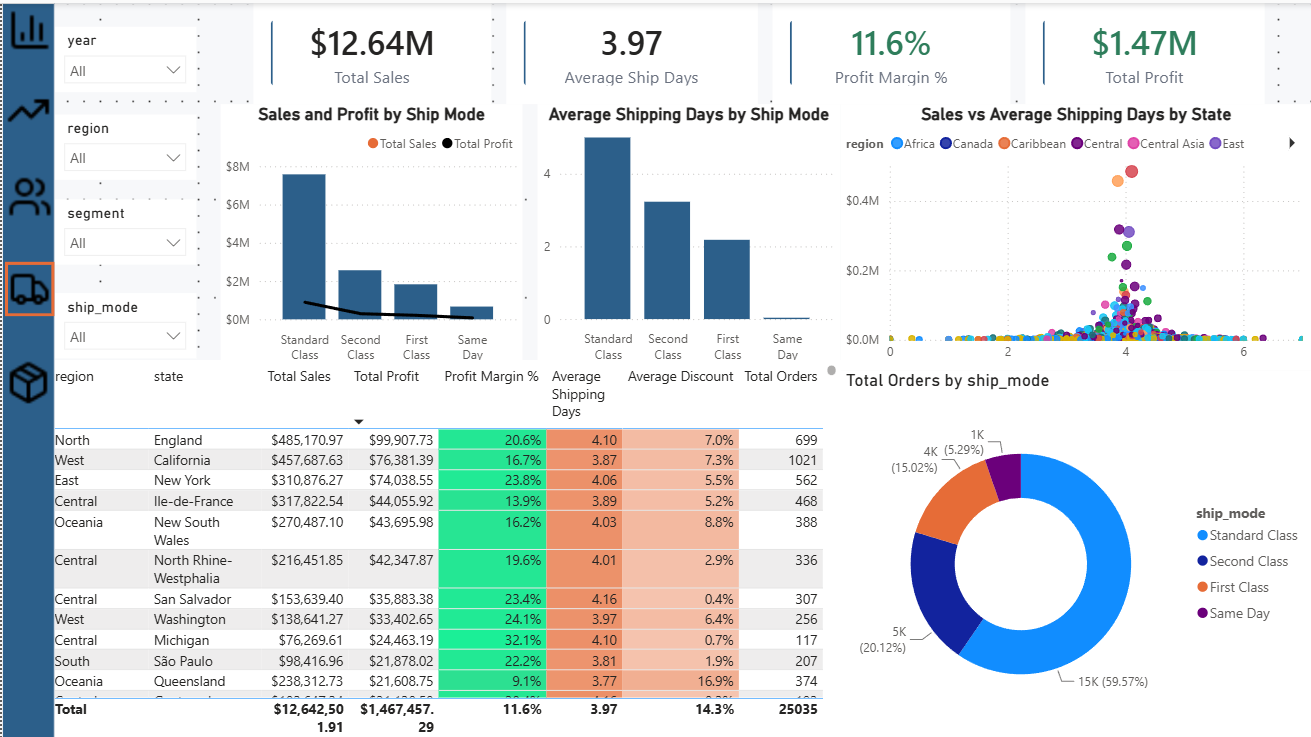

What the dashboard file says about the page in this screenshot:
{"tool":"powerbi","page":{"name":"Shipping & Logistics Performance","canvas":[1280,720],"ordinal":3},"visuals":[{"type":"shape","box":[0,0,51.7,720],"z":0,"group":"g1"},{"type":"cardVisual","fields":{"Data":["_Measures.Total Sales"]},"box":[245.7,0,232.9,98.6],"z":0},{"type":"actionButton","box":[1.7,0,51.7,53.3],"z":1000,"group":"g1"},{"type":"cardVisual","fields":{"Data":["_Measures.Total Profit"]},"box":[1000,0,233.7,98.8],"z":1000},{"type":"cardVisual","fields":{"Data":["_Measures.Profit Margin %"]},"box":[752.9,0,232.9,98.6],"z":2000},{"type":"actionButton","box":[0,78.3,51.7,53.3],"z":2000,"group":"g1"},{"type":"cardVisual","fields":{"Data":["_Measures.Average Shipping Days"]},"box":[492.9,0,245.7,98.6],"z":3000},{"type":"actionButton","box":[1.7,163.3,51.7,53.3],"z":3000,"group":"g1"},{"type":"slicer","fields":{"Values":["dim.date.year"]},"box":[51.3,23.1,139,64.2],"z":4000},{"type":"actionButton","box":[3.3,253.3,48.3,53.3],"z":4000,"group":"g1"},{"type":"slicer","fields":{"Values":["dim.geography.region"]},"box":[51.3,108.7,139,64.2],"z":5000},{"type":"actionButton","box":[0,345,51.7,53.3],"z":5000,"group":"g1"},{"type":"slicer","fields":{"Values":["dim.customer.segment"]},"box":[51.3,192.1,139,64.2],"z":6000},{"type":"slicer","fields":{"Values":["dim.ship_mode.ship_mode"]},"box":[51.3,284.1,139,64.2],"z":7000},{"type":"lineStackedColumnComboChart","title":"Sales and Profit by Ship Mode","fields":{"Category":["dim.ship_mode.ship_mode"],"Y":["_Measures.Total Sales"],"Y2":["_Measures.Total Profit"]},"box":[214,98.8,295.3,260.5],"z":8000},{"type":"clusteredColumnChart","title":"Average Shipping Days by Ship Mode","fields":{"Category":["dim.ship_mode.ship_mode"],"Y":["_Measures.Average Shipping Days"]},"box":[523.3,98.8,296.5,260.5],"z":9000},{"type":"scatterChart","title":"Sales vs Average Shipping Days by State","fields":{"X":["_Measures.Average Shipping Days"],"Y":["_Measures.Total Sales"],"Size":["_Measures.Total Profit"],"Series":["dim.geography.region"],"Category":["dim.geography.state"]},"box":[819.8,98.8,460.5,260.5],"z":10000},{"type":"tableEx","fields":{"Values":["dim.geography.region","dim.geography.state","_Measures.Total Sales","_Measures.Total Profit","_Measures.Profit Margin %","_Measures.Average Shipping Days","_Measures.Average Discount","_Measures.Total Orders"]},"box":[40,348.6,780,372.9],"z":11000},{"type":"donutChart","fields":{"Category":["dim.ship_mode.ship_mode"],"Y":["_Measures.Total Orders"]},"box":[819.8,359.3,460.5,360.5],"z":12000},{"type":"group","id":"g1","title":"Group 1","box":[0,0,53.3,720],"z":12001}]}

Visuals, with their boxes on the page's 1280x720 design canvas (x1, y1, x2, y2). These are canvas units, not pixel positions in the 1311x737 screenshot, which may show the page scaled, cropped or inside an application window:
shape: bbox=(0, 0, 52, 720)
cardVisual - _Measures.Total Sales: bbox=(246, 0, 479, 99)
actionButton: bbox=(2, 0, 53, 53)
cardVisual - _Measures.Total Profit: bbox=(1000, 0, 1234, 99)
cardVisual - _Measures.Profit Margin %: bbox=(753, 0, 986, 99)
actionButton: bbox=(0, 78, 52, 132)
cardVisual - _Measures.Average Shipping Days: bbox=(493, 0, 739, 99)
actionButton: bbox=(2, 163, 53, 217)
slicer - dim.date.year: bbox=(51, 23, 190, 87)
actionButton: bbox=(3, 253, 52, 307)
slicer - dim.geography.region: bbox=(51, 109, 190, 173)
actionButton: bbox=(0, 345, 52, 398)
slicer - dim.customer.segment: bbox=(51, 192, 190, 256)
slicer - dim.ship_mode.ship_mode: bbox=(51, 284, 190, 348)
"Sales and Profit by Ship Mode" lineStackedColumnComboChart: bbox=(214, 99, 509, 359)
"Average Shipping Days by Ship Mode" clusteredColumnChart: bbox=(523, 99, 820, 359)
"Sales vs Average Shipping Days by State" scatterChart: bbox=(820, 99, 1280, 359)
tableEx - dim.geography.region x dim.geography.state: bbox=(40, 349, 820, 722)
donutChart - dim.ship_mode.ship_mode x _Measures.Total Orders: bbox=(820, 359, 1280, 720)
"Group 1" group: bbox=(0, 0, 53, 720)
